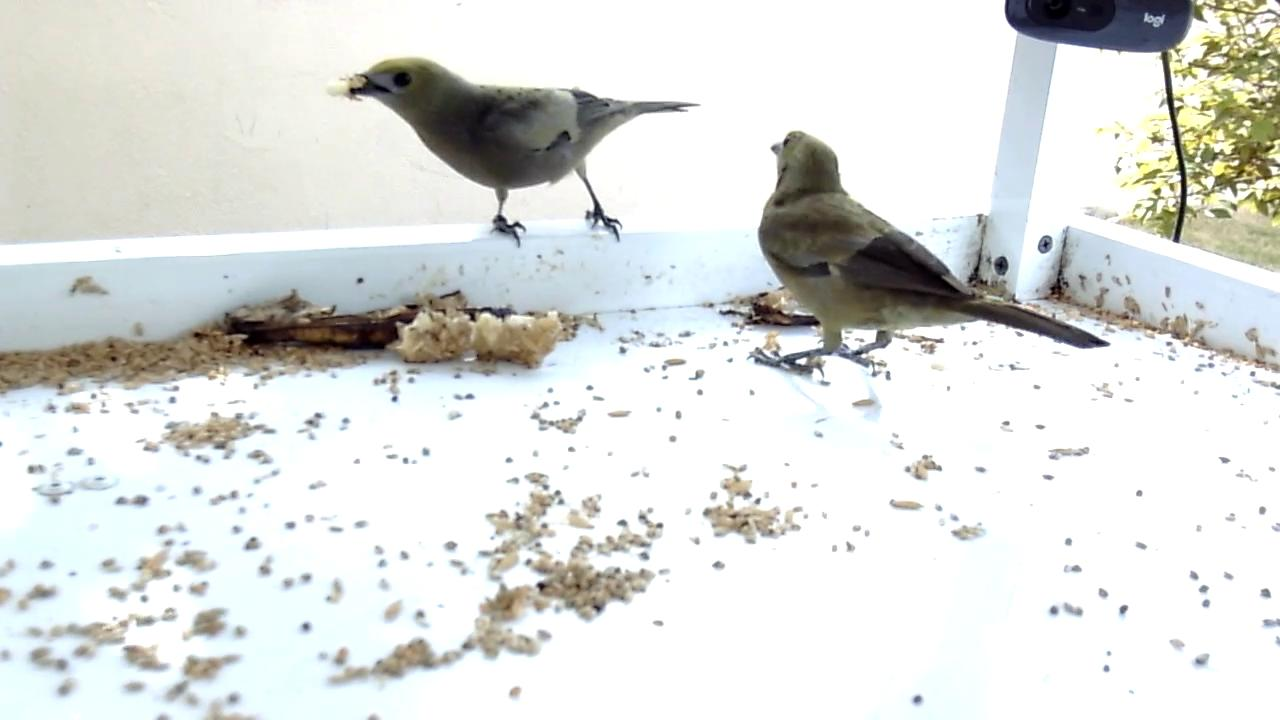sanhaco_do_coqueiro: (749, 132, 1112, 380), (333, 54, 701, 247)
